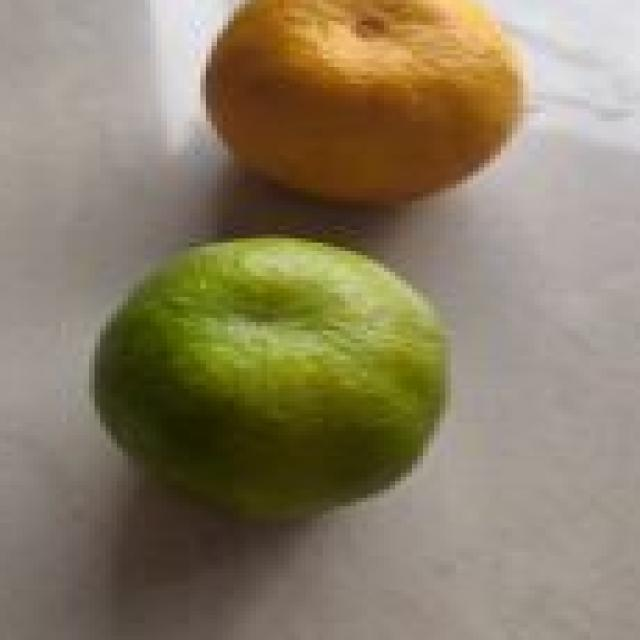Good_Orange-15-21 days: (89, 238, 451, 531), (200, 0, 534, 218)
